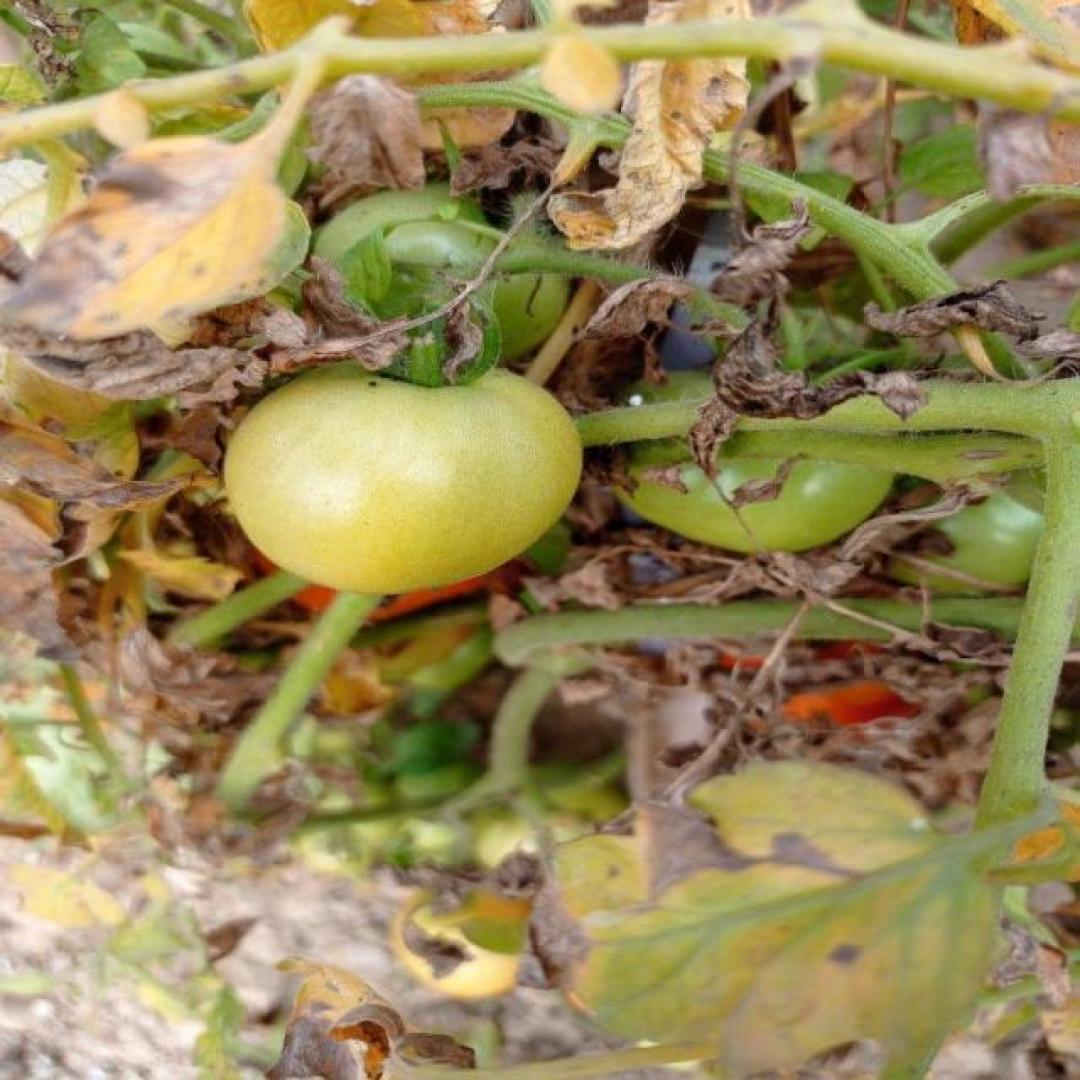mentah: (224, 354, 588, 594)
